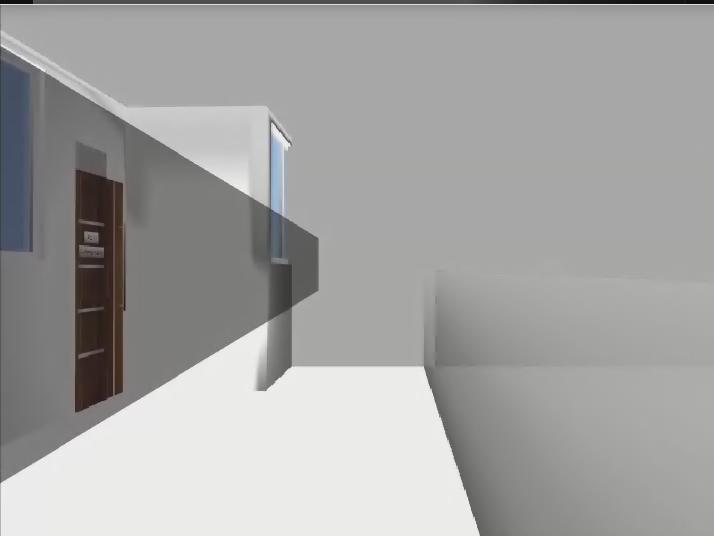door: (76, 171, 126, 412)
